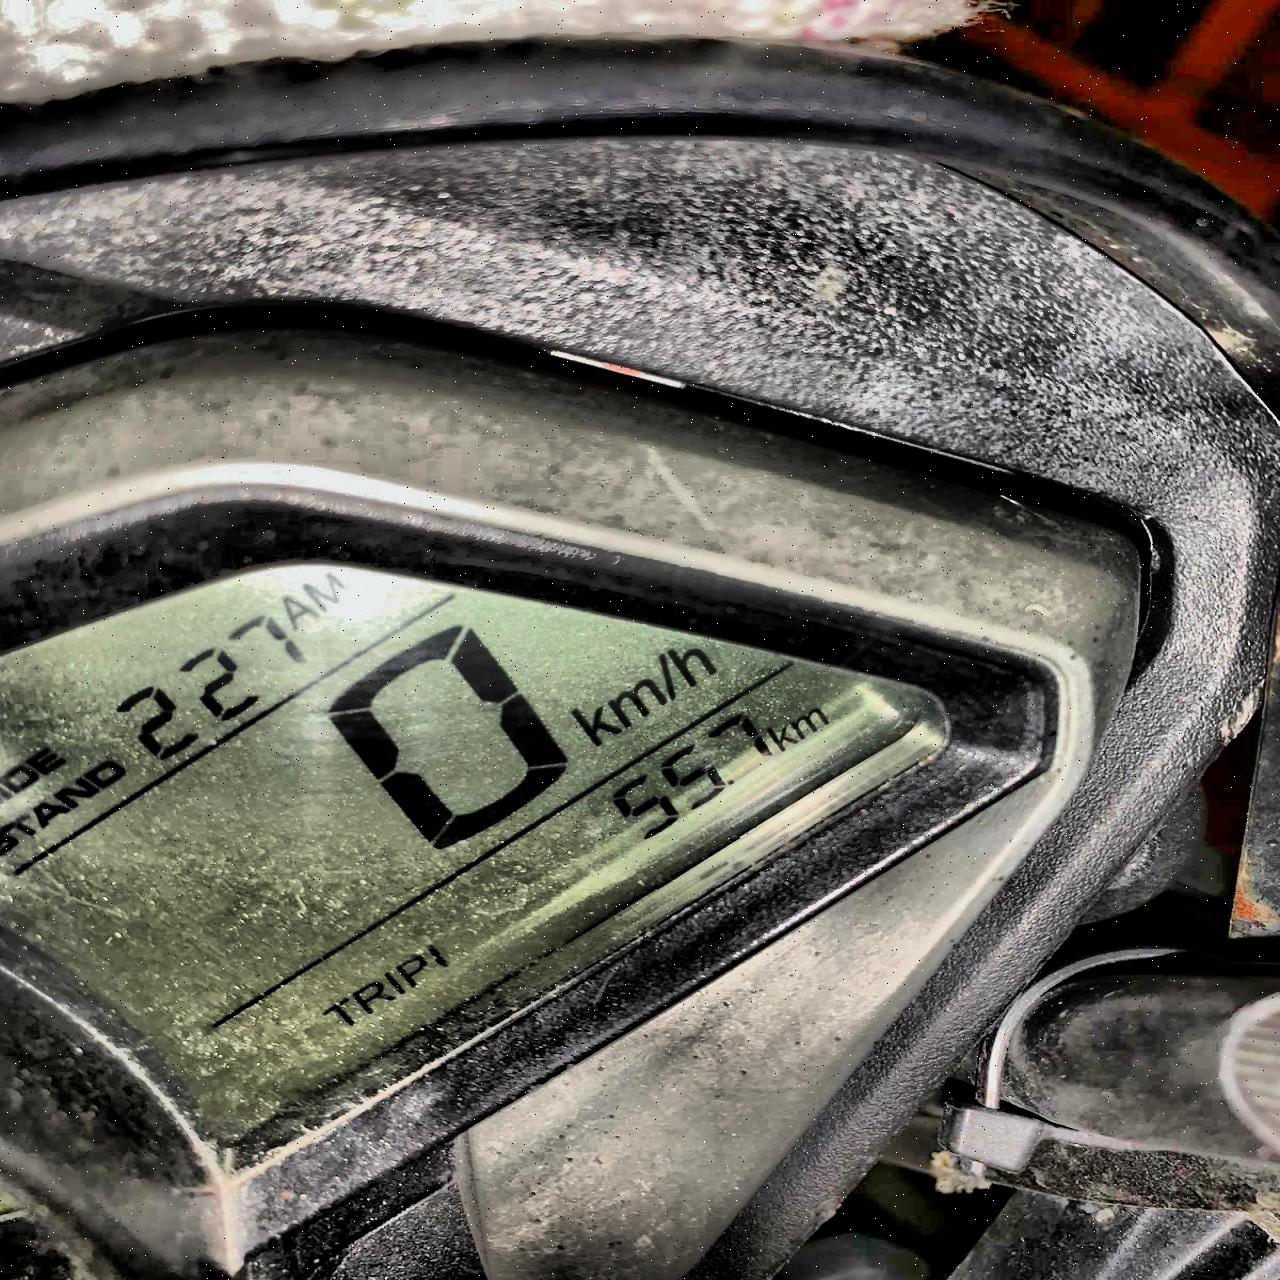-: (719, 768, 744, 789)
0: (327, 621, 571, 847)
1: (423, 935, 459, 976)
2: (178, 642, 264, 716), (114, 686, 199, 758)
5: (611, 772, 679, 840), (660, 742, 726, 808)
7: (222, 611, 312, 670), (708, 713, 774, 760)
X: (601, 678, 667, 727), (666, 645, 721, 686), (565, 703, 622, 742), (299, 573, 347, 608), (275, 595, 328, 626), (347, 978, 395, 1010), (789, 704, 832, 737), (649, 651, 679, 699), (52, 777, 100, 805), (315, 998, 359, 1028), (394, 955, 431, 990), (29, 798, 72, 828), (22, 745, 63, 774), (84, 758, 129, 784), (0, 764, 39, 794), (0, 815, 42, 837), (768, 723, 799, 753), (381, 968, 407, 999)
odometer: (1, 542, 1010, 1197)
